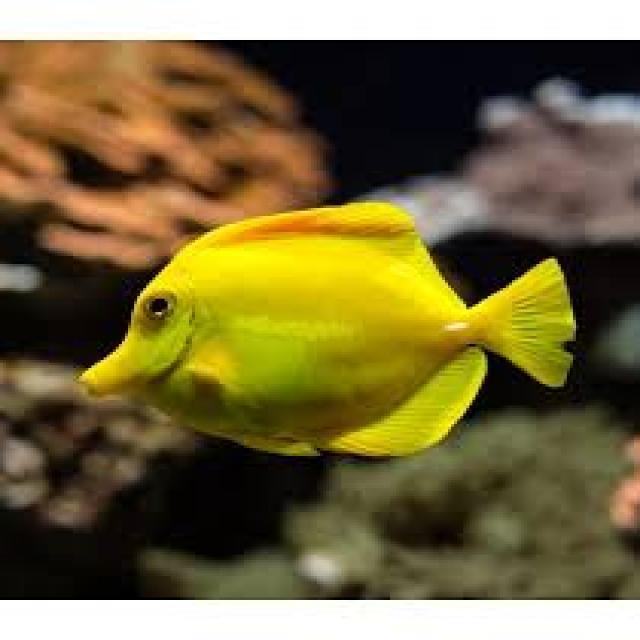TangFish: (74, 199, 580, 458)
